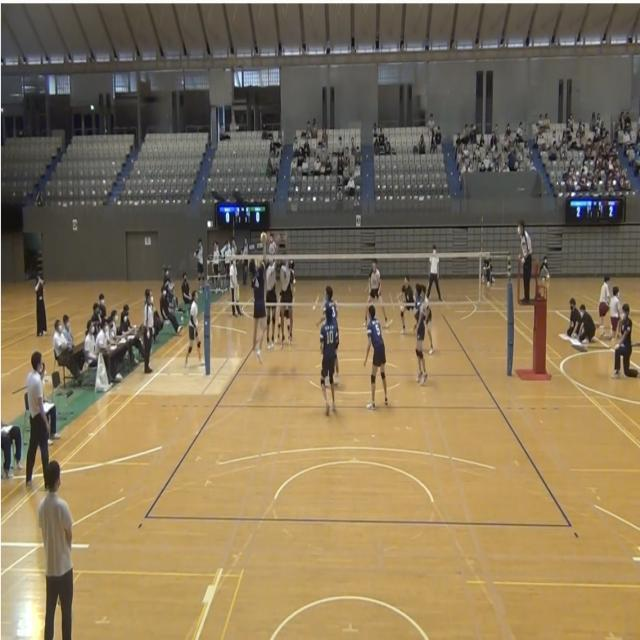spike: (242, 231, 274, 373)
